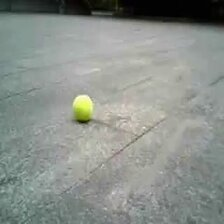tennis: (73, 94, 94, 120)
